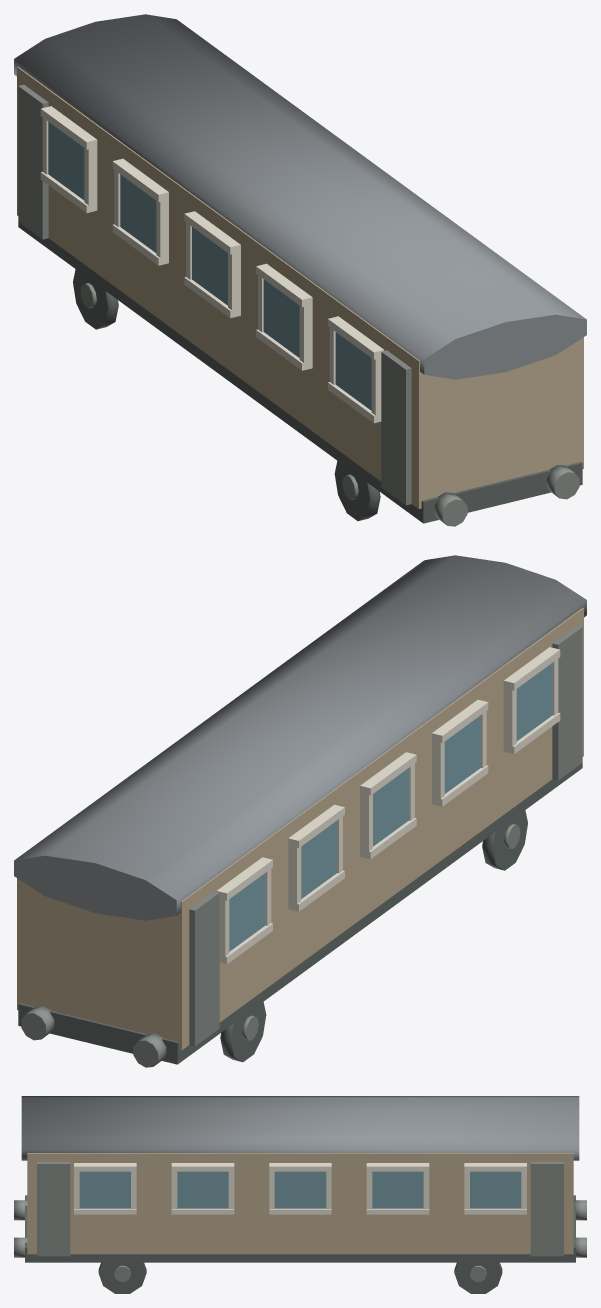
The model's file is tyne-coach_lod1.glb.
The picture shows the model from 3 angles, top to bottom: view 1: azimuth 30°, elevation 25°; view 2: azimuth 150°, elevation 25°; view 3: azimuth 270°, elevation 25°; orthographic projection. The views are drawn at different scales.
Visible parts, largest first — view 1: RF_CoachRoof, RF_CoachBody, RF_RoofLowerMask, RF_Chassis, RF_CarDoor.001, RF_CarDoor.002, RF_Window.002, RF_Window.001, RF_Window.004, RF_Window.005, RF_Window.003, RF_Wheel.001 (+13 smaller); view 2: RF_CoachRoof, RF_CoachBody, RF_RoofLowerMask, RF_Chassis, RF_CarDoor.002, RF_CarDoor.001, RF_Window.004, RF_Window.005, RF_Window.001, RF_Window.002, RF_Window.003, RF_Wheel.003 (+13 smaller); view 3: RF_CoachBody, RF_CoachRoof, RF_Chassis, RF_CarDoor.003, RF_CarDoor, RF_Window.008, RF_Window.007, RF_Window.009, RF_Window.006, RF_Window, RF_Wheel.002, RF_Wheel (+11 smaller).
Boxes of the visible parts, <box> form: RF_CoachRoof: <box>14,14,586,379</box>; RF_CoachBody: <box>17,67,583,508</box>; RF_RoofLowerMask: <box>17,76,583,447</box>; RF_Chassis: <box>18,222,582,523</box>; RF_CarDoor.001: <box>381,350,411,505</box>; RF_CarDoor.002: <box>18,84,48,239</box>; RF_Window.002: <box>263,279,299,357</box>; RF_Window.001: <box>335,332,371,410</box>; RF_Window.004: <box>120,174,156,252</box>; RF_Window.005: <box>48,122,84,200</box>; RF_Window.003: <box>192,227,227,305</box>; RF_Wheel.001: <box>334,461,380,520</box>; RF_CoachRoof: <box>14,555,586,920</box>; RF_CoachBody: <box>17,608,583,1049</box>; RF_RoofLowerMask: <box>17,615,583,987</box>; RF_Chassis: <box>18,763,582,1064</box>; RF_CarDoor.002: <box>189,891,219,1046</box>; RF_CarDoor.001: <box>552,625,582,780</box>; RF_Window.004: <box>301,820,337,898</box>; RF_Window.005: <box>229,873,265,951</box>; RF_Window.001: <box>516,663,552,741</box>; RF_Window.002: <box>444,715,480,793</box>; RF_Window.003: <box>373,768,408,846</box>; RF_Wheel.003: <box>220,1002,266,1061</box>; RF_CoachBody: <box>27,1153,573,1254</box>; RF_CoachRoof: <box>21,1096,579,1160</box>; RF_Chassis: <box>25,1195,575,1262</box>; RF_CarDoor.003: <box>37,1162,70,1256</box>; RF_CarDoor: <box>530,1162,563,1256</box>; RF_Window.008: <box>274,1171,326,1208</box>; RF_Window.007: <box>177,1171,228,1208</box>; RF_Window.009: <box>372,1171,423,1208</box>; RF_Window.006: <box>79,1171,130,1208</box>; RF_Window: <box>470,1171,521,1208</box>; RF_Wheel.002: <box>98,1262,146,1293</box>; RF_Wheel: <box>454,1262,502,1293</box>.
Bounding box in the file's own units: 3.16 × 3.73 × 12.38.
